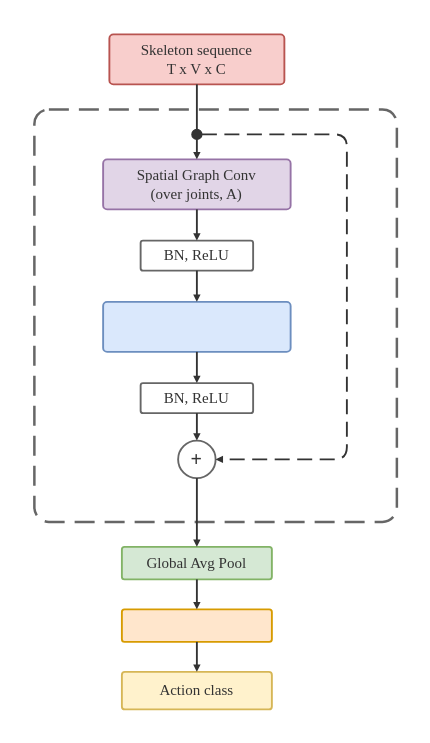
Image size: 430x743. Some labels were removed from this diagram. Each missing label, with the box of its shape:
FC + Softmax: (120, 608, 272, 642)
Temporal Conv (9 x 1, over time): (102, 300, 291, 352)
× 9 blocks: (32, 108, 398, 522)
